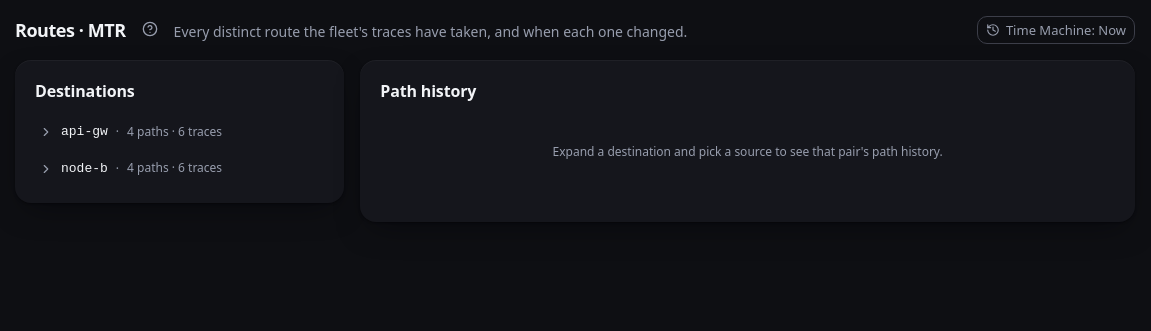
MTRPage — destination cards collapse › holds one open state PER card — opening one leaves its neighbour shut
Click the button "node-b · 4 paths · 6 traces": (180, 169) [35,154,324,183]
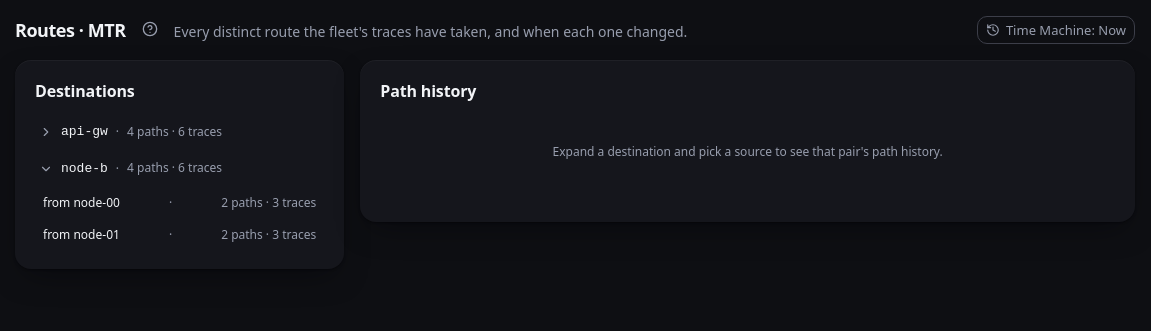
Now the list named "node-b" is shown, box [35,189,324,249]
Click the button "api-gw · 4 paths · 6 traces": (180, 132) [35,118,324,146]
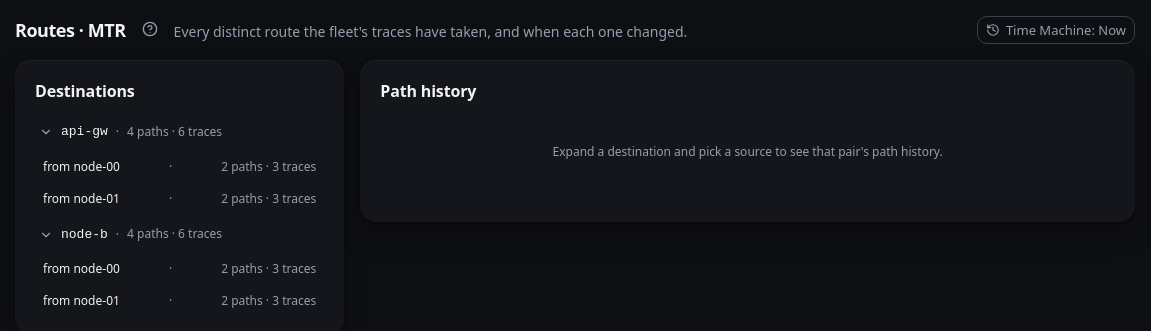
Now the list named "node-b" is shown, box [35,255,324,315]
Now the list named "api-gw" is shown, box [35,152,324,212]
